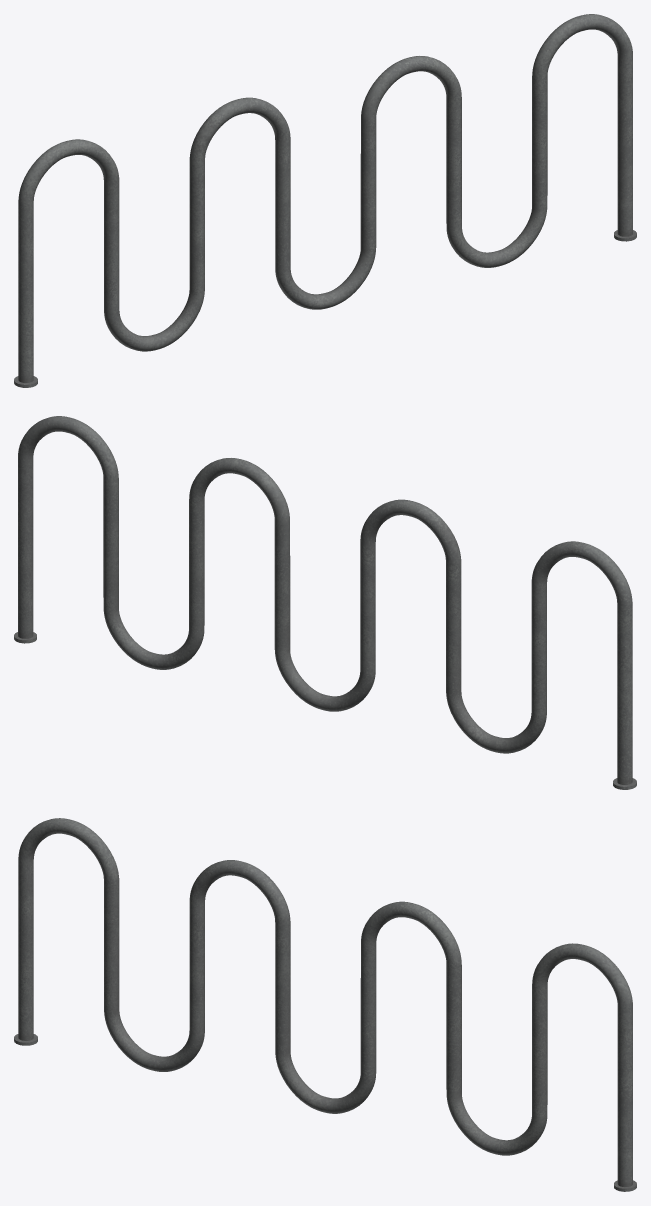
The model's file is BikeRack.fbx.
3 views of the same model, one above another, from view 1: azimuth 30°, elevation 25°; view 2: azimuth 150°, elevation 25°; view 3: azimuth 330°, elevation 25° (orthographic).
Visible parts, largest first — view 1: bike_rack; view 2: bike_rack; view 3: bike_rack.
Boxes of the visible parts, x1,y1,x2,y2 form: bike_rack: [14, 14, 636, 387]; bike_rack: [14, 416, 636, 789]; bike_rack: [14, 818, 636, 1191].
Bounding box in the file's own units: 212 × 75.64 × 7.23.
